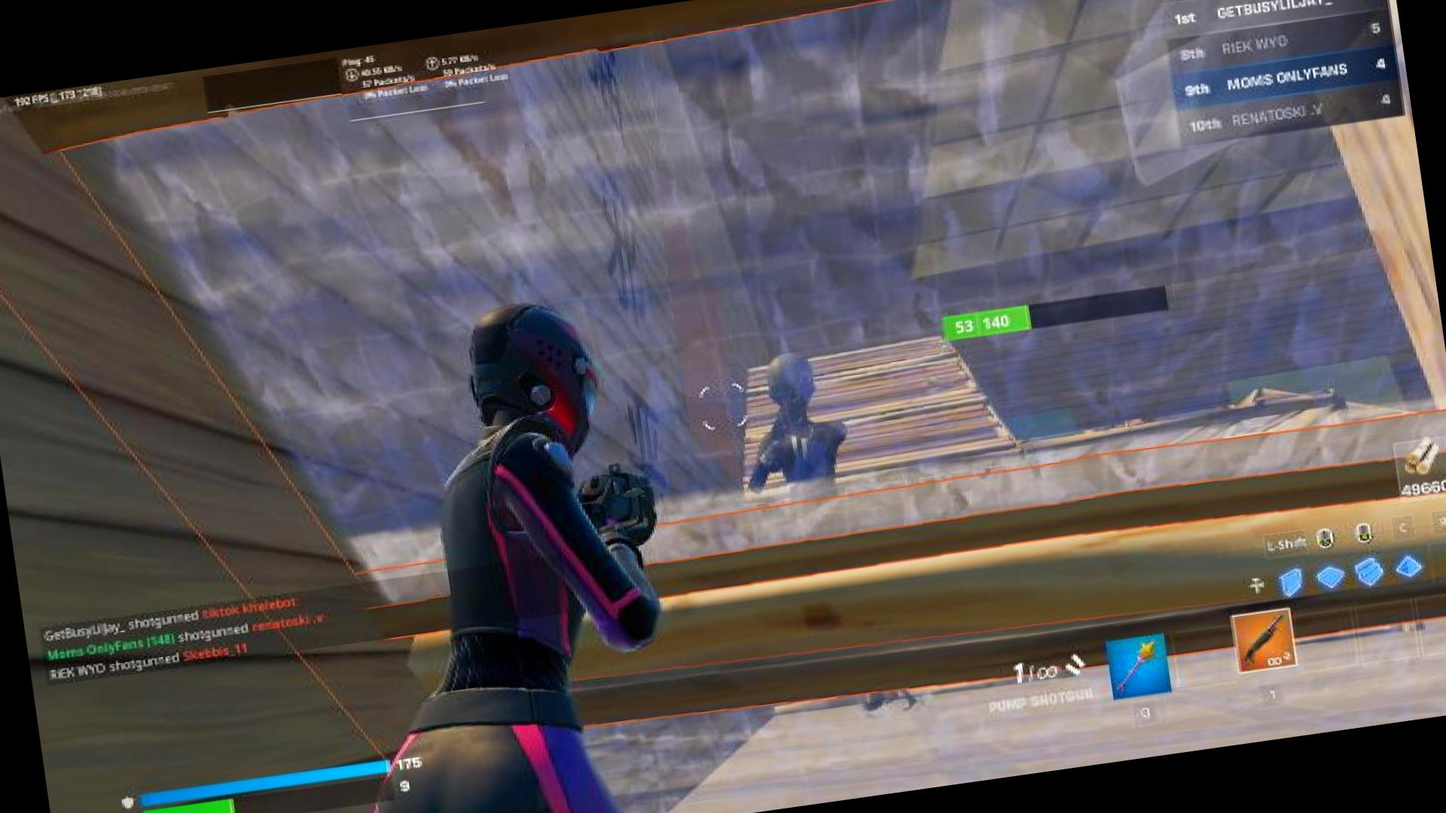player: (727, 343, 927, 717)
